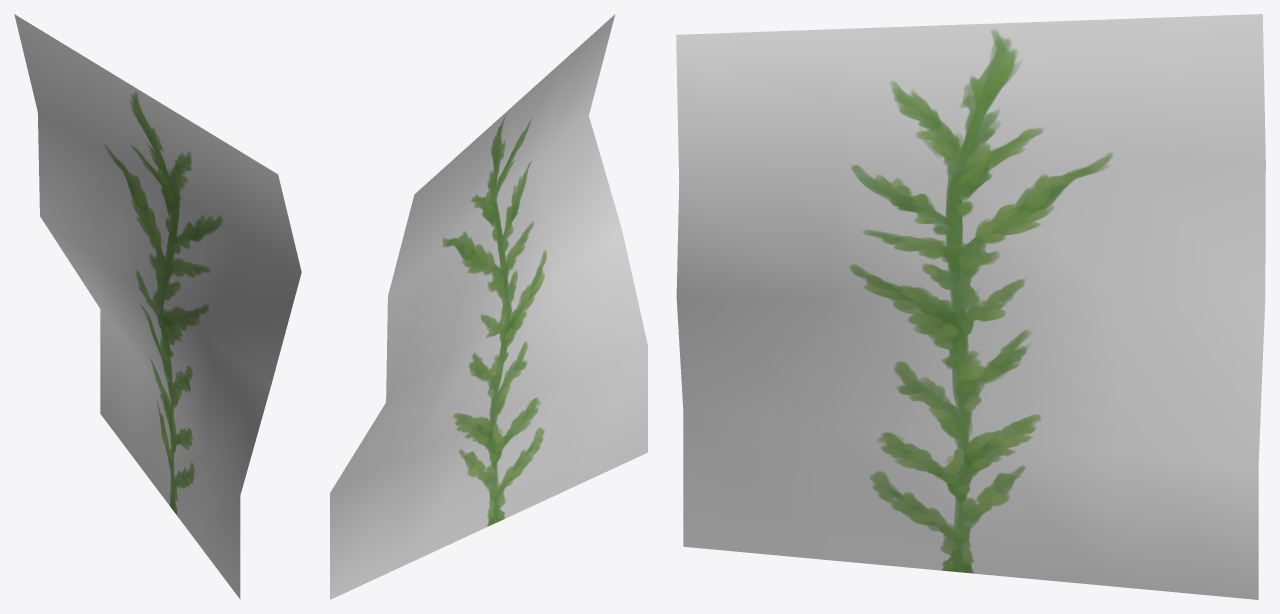
File: Kelp.fbx
3 views of the same model, side by side, from view 1: azimuth 30°, elevation 25°; view 2: azimuth 150°, elevation 25°; view 3: azimuth 270°, elevation 25° (orthographic). The views are drawn at different scales.
Visible parts, largest first — view 1: Plane; view 2: Plane; view 3: Plane.
Boxes of the visible parts, x1=… form: Plane: x1=14, y1=14, x2=301, y2=599; Plane: x1=330, y1=14, x2=647, y2=599; Plane: x1=676, y1=14, x2=1265, y2=599.
Bounding box in the file's own units: 85.59 × 400 × 401.
1 material, 1 textured.
